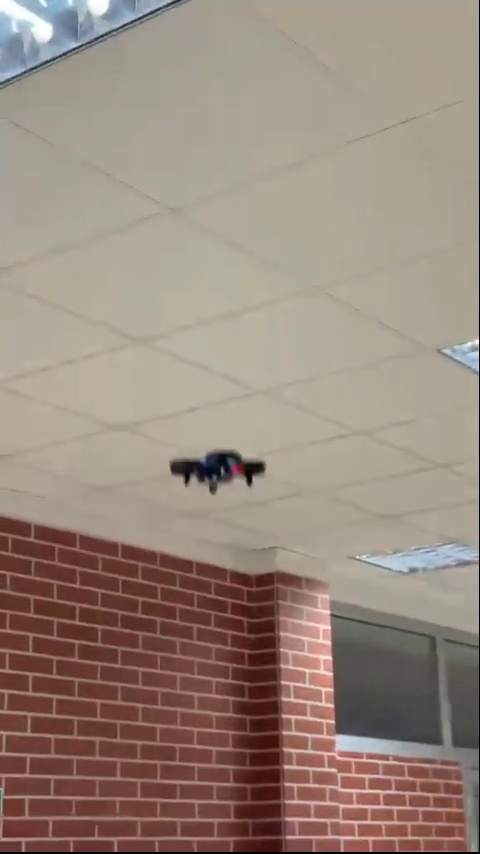drone: (166, 449, 266, 495)
